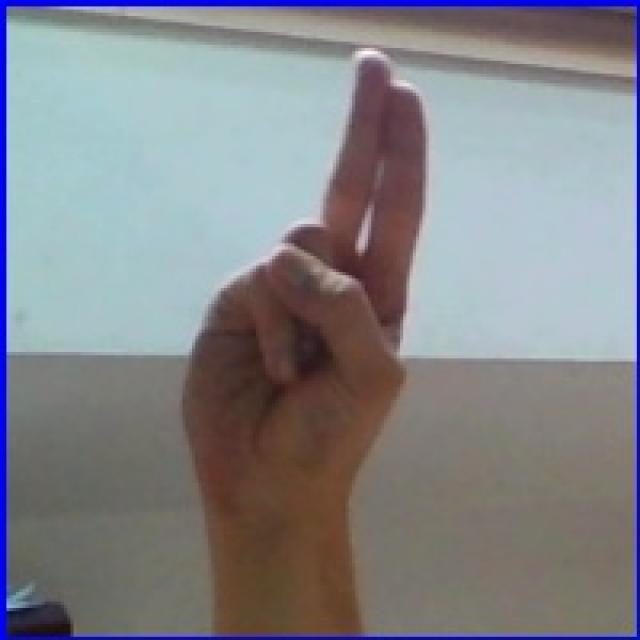Letra-U: (152, 39, 464, 524)
